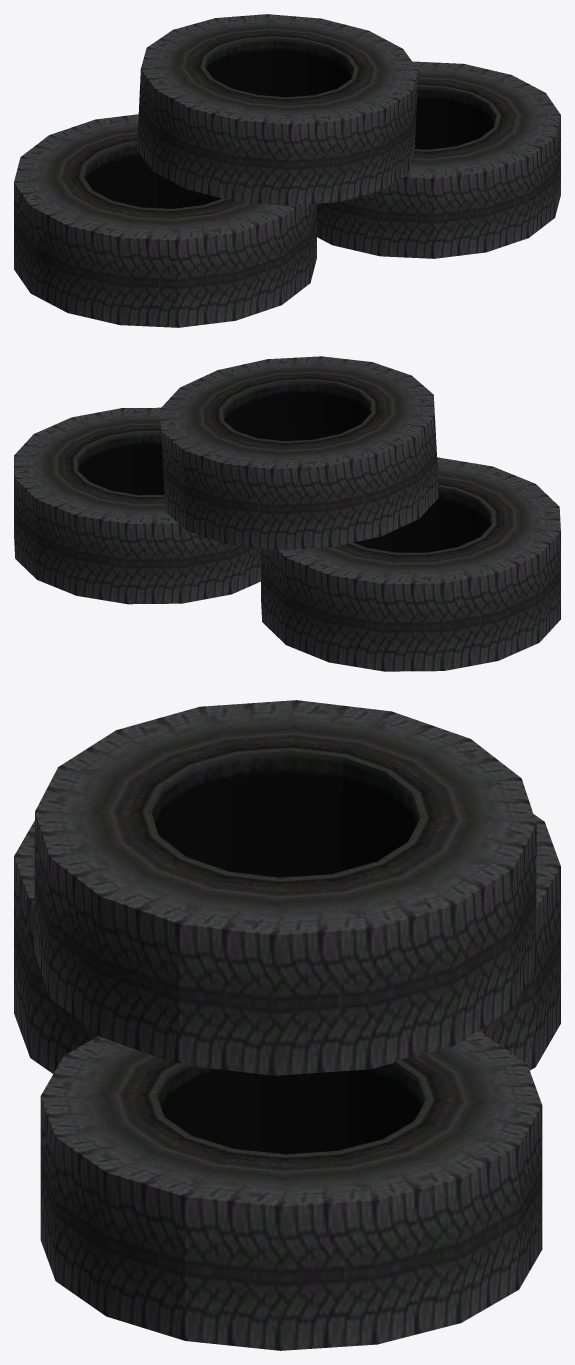
File: tire_three_stack.fbx
3 renders of one model, top to bottom at view 1: azimuth 30°, elevation 25°; view 2: azimuth 150°, elevation 25°; view 3: azimuth 270°, elevation 25°, orthographic. The views are drawn at different scales.
Parts seen in each view (by area): view 1: mesh_0; view 2: mesh_0; view 3: mesh_0.
Boxes of the visible parts, <box> form: mesh_0: <box>14,14,560,327</box>; mesh_0: <box>14,356,560,671</box>; mesh_0: <box>14,700,560,1350</box>.
Size of the model in its own units: 137 by 44.56 by 70.73.
Materials: 1 (1 with a texture image).
